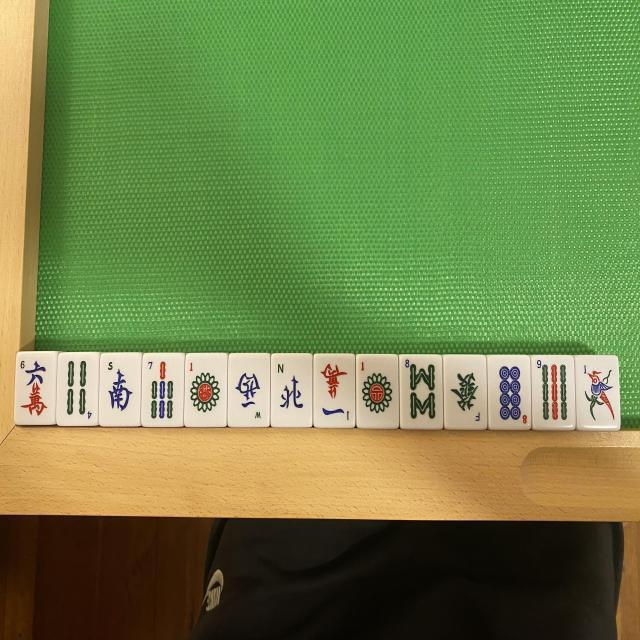hdg: (448, 356, 488, 428)
hwn: (272, 354, 312, 426)
hws: (102, 356, 140, 426)
hww: (230, 356, 270, 426)
sb1: (578, 357, 618, 428)
sb4: (60, 353, 98, 425)
sb7: (142, 356, 183, 426)
sb8: (401, 354, 444, 426)
sb9: (534, 354, 575, 428)
sc1: (314, 354, 356, 428)
sc6: (17, 354, 56, 426)
sd1: (358, 358, 399, 428), (186, 356, 226, 426)
sd8: (489, 357, 528, 428)
